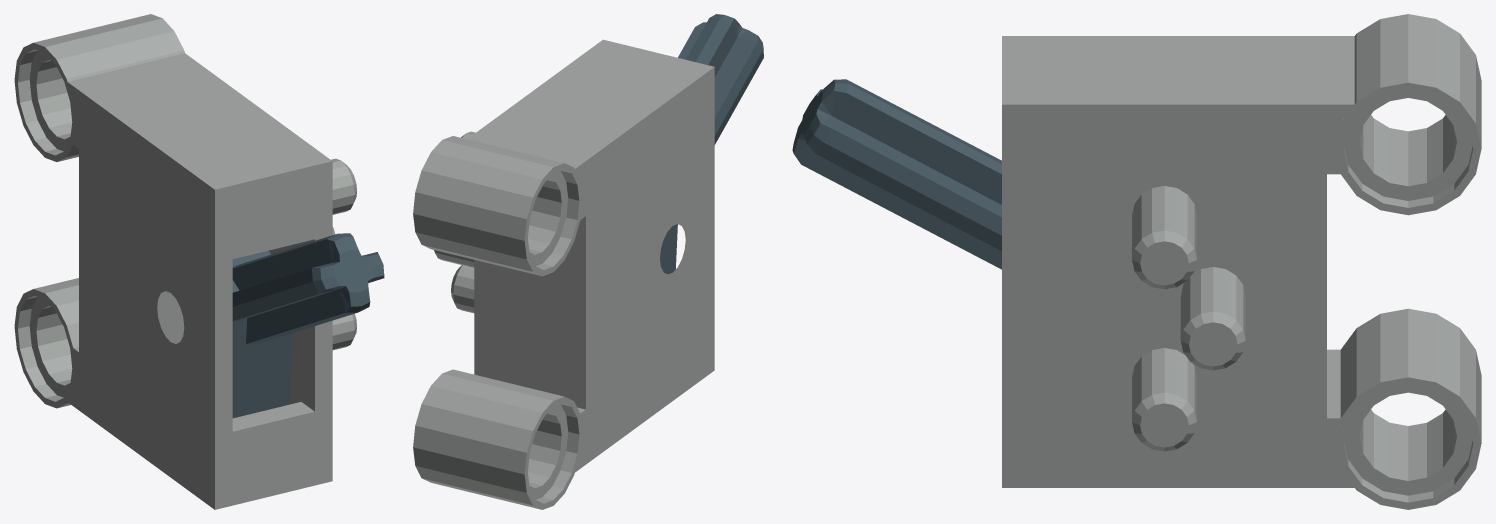
The picture shows the model from 3 angles, left to right: view 1: azimuth 30°, elevation 25°; view 2: azimuth 150°, elevation 25°; view 3: azimuth 270°, elevation 25°; orthographic projection. The views are drawn at different scales.
Parts seen in each view (by area): view 1: world; view 2: world; view 3: world.
Boxes of the visible parts, box(x1,y1,x2,y2) form: world: box(14, 14, 384, 509); world: box(413, 14, 763, 509); world: box(792, 14, 1481, 509).
Bounding box in the file's own units: 0.0136 × 0.0232 × 0.0339.
